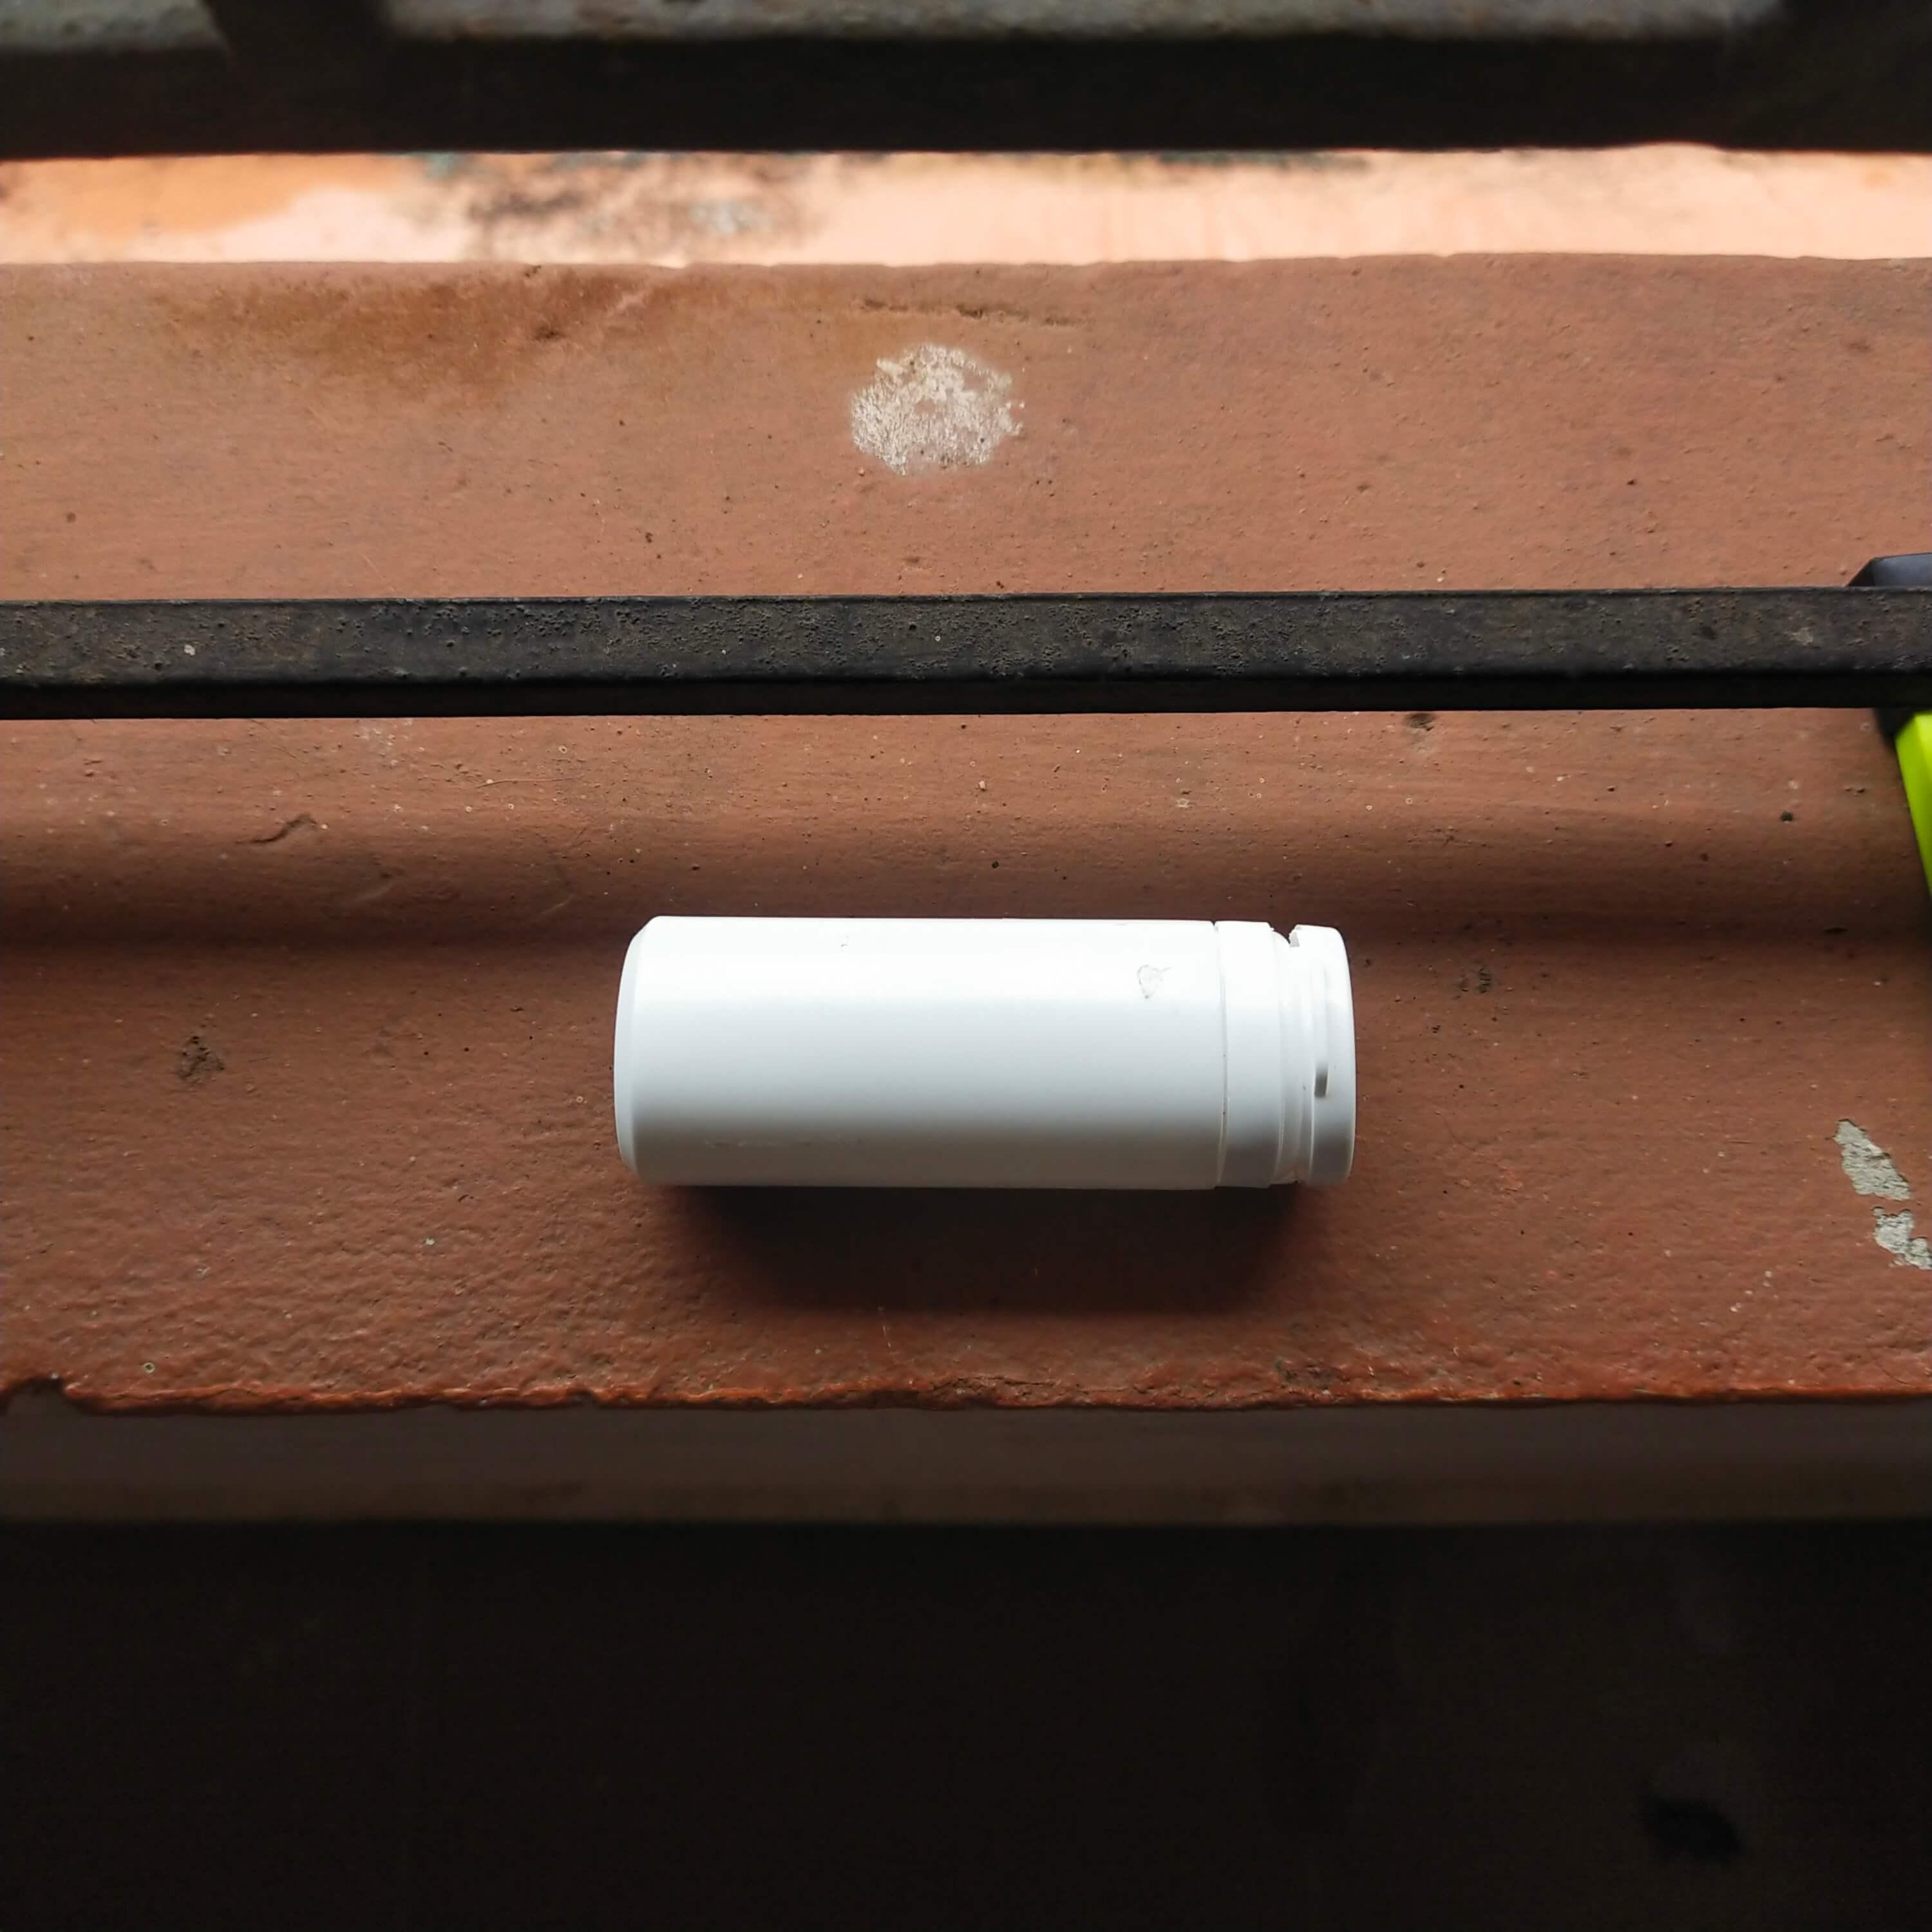plastic box: (600, 876, 1369, 1260)
